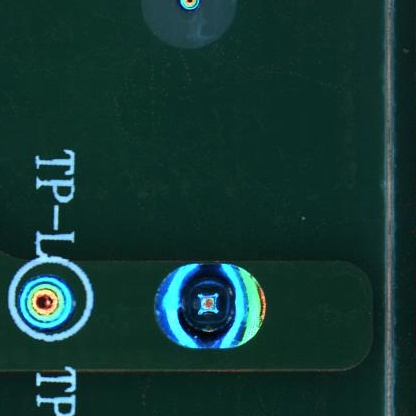spot: (153, 262, 267, 349), (19, 273, 75, 330)
